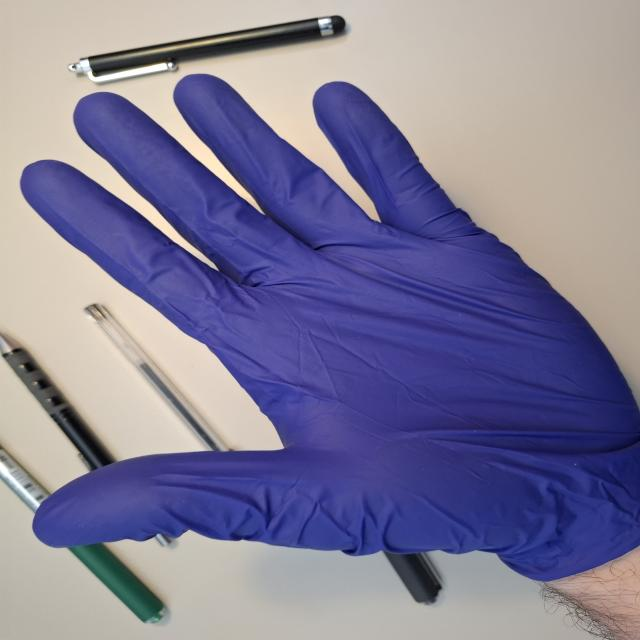glove_on: (14, 70, 638, 590)
